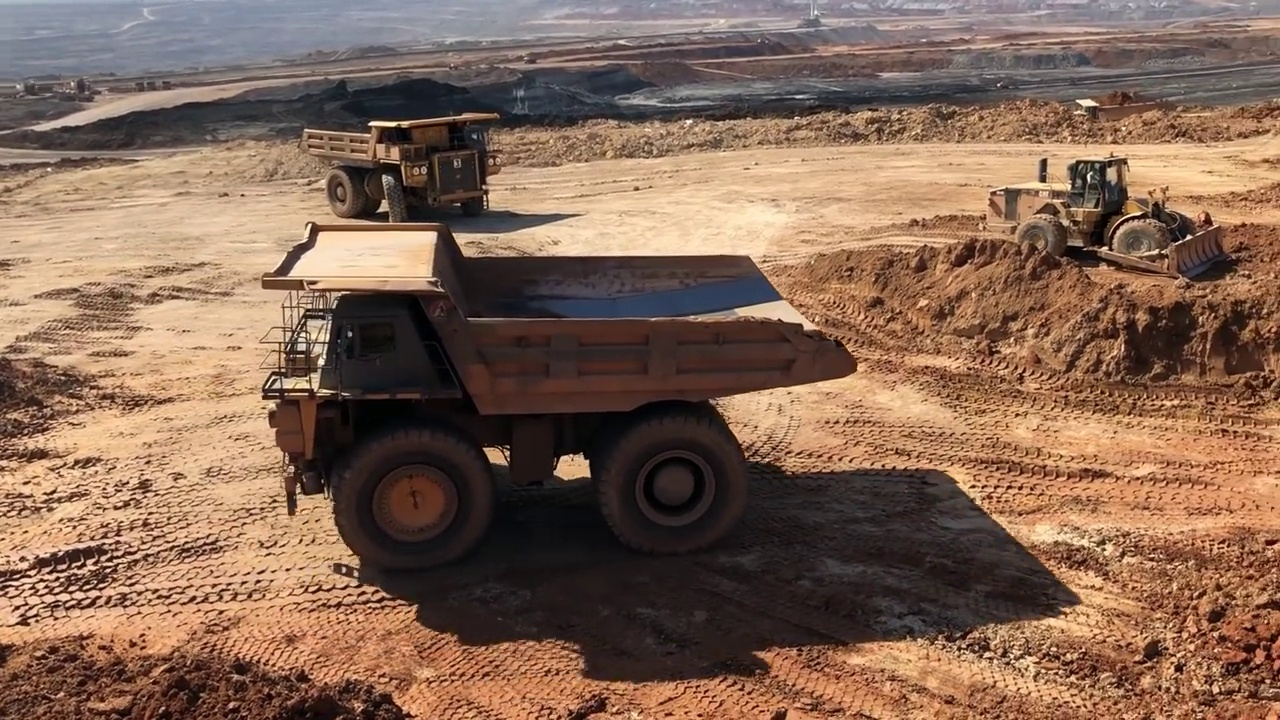bulldozer: (987, 156, 1235, 286)
dumper: (258, 225, 860, 566), (299, 110, 499, 226)
